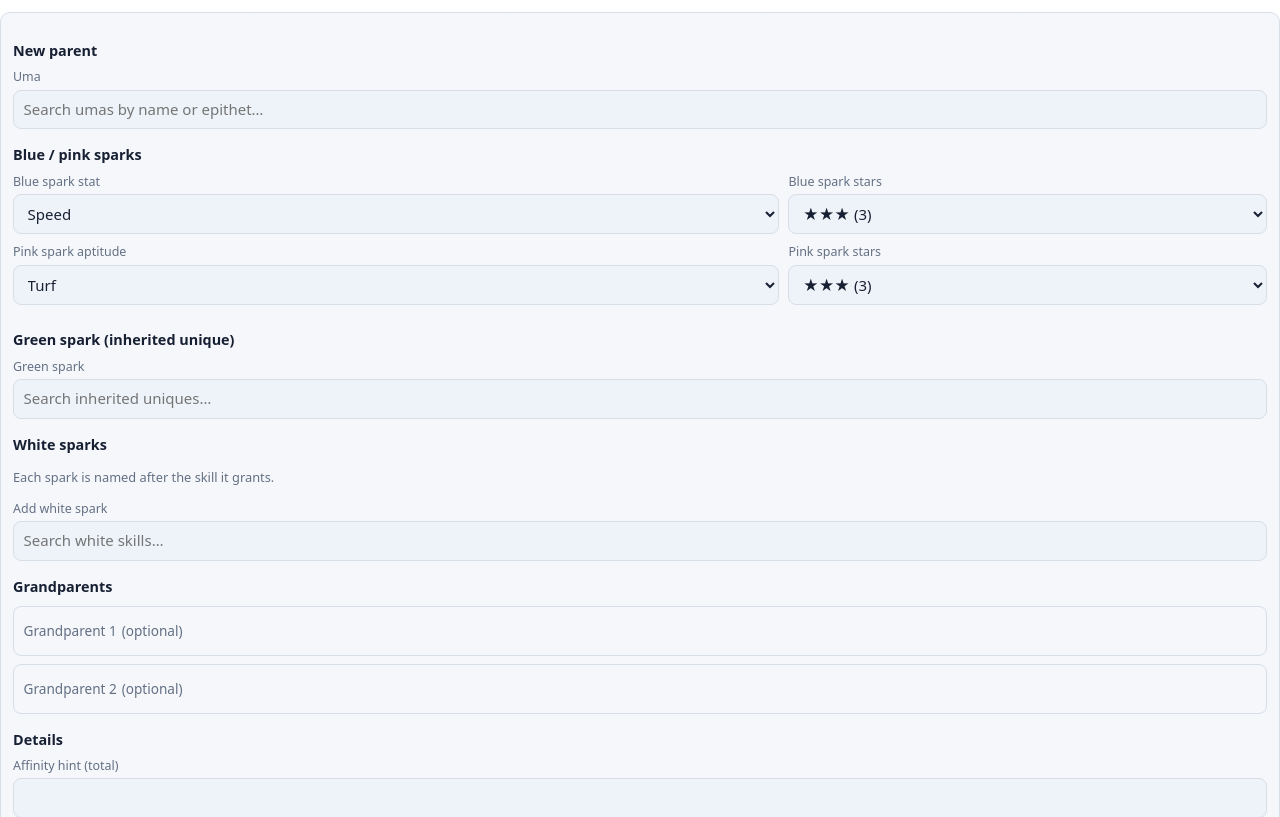
Test: ParentForm — planning horizon › a wider (cm-like) horizon reveals the upcoming JP uma / white / inherited-unique
Type "jp-only" into the search field labelled "Uma" at (640, 109), box [13, 90, 1267, 129]
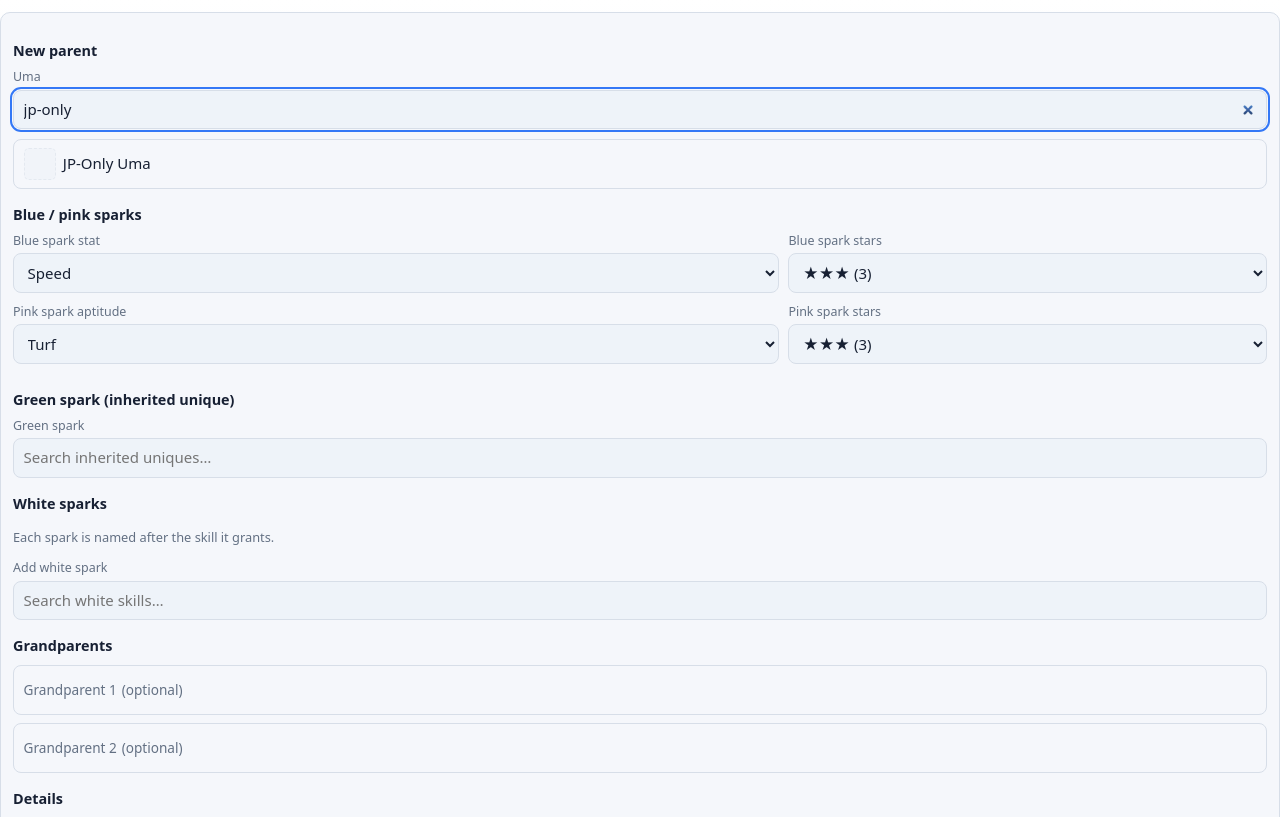
Check: the button "JP-Only Uma" is shown, box [14, 140, 1266, 188]
Type "jp-only" into the search field labelled "Add white spark" at (640, 600), box [13, 580, 1267, 620]
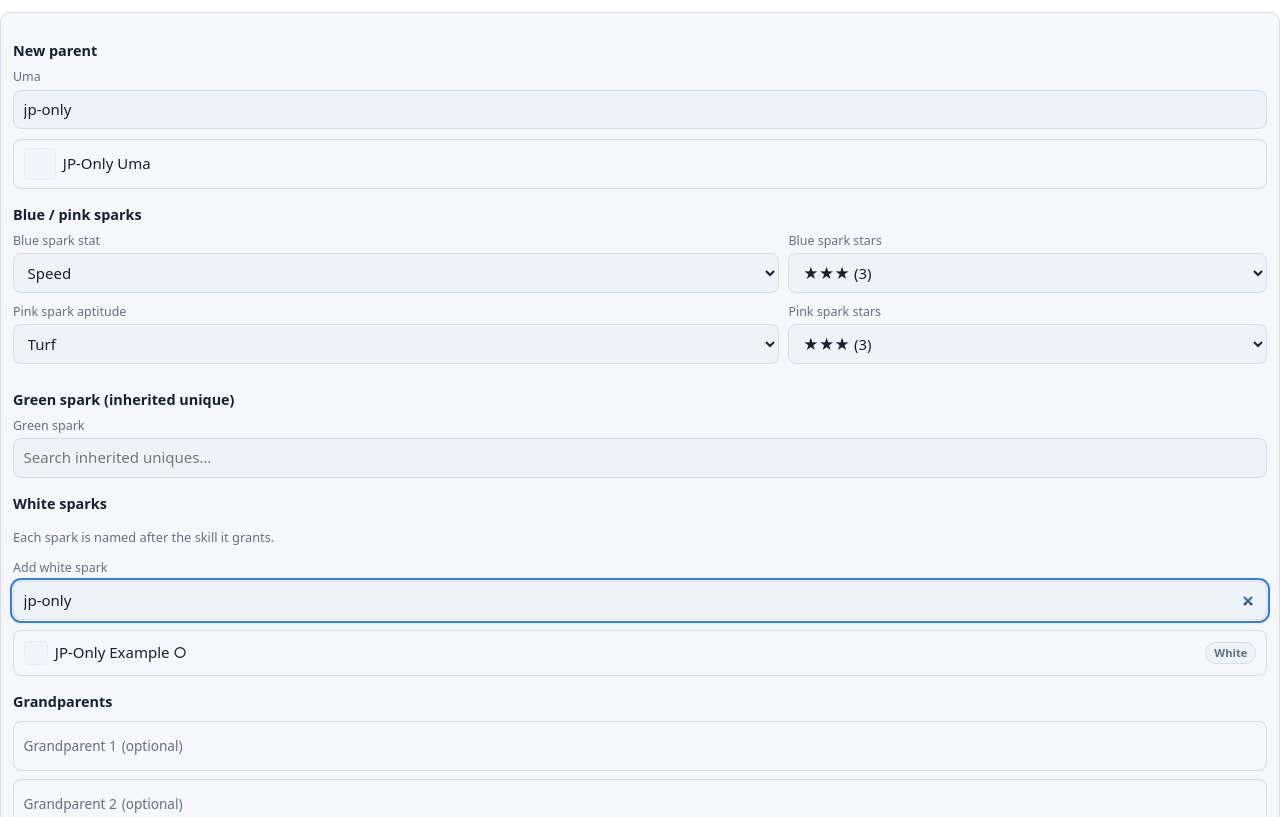
Check: the button "JP-Only Example ○ White" is shown, box [14, 631, 1266, 675]
Type "JP Inherited" into the search field labelled "Green spark" at (640, 458), box [13, 438, 1267, 478]
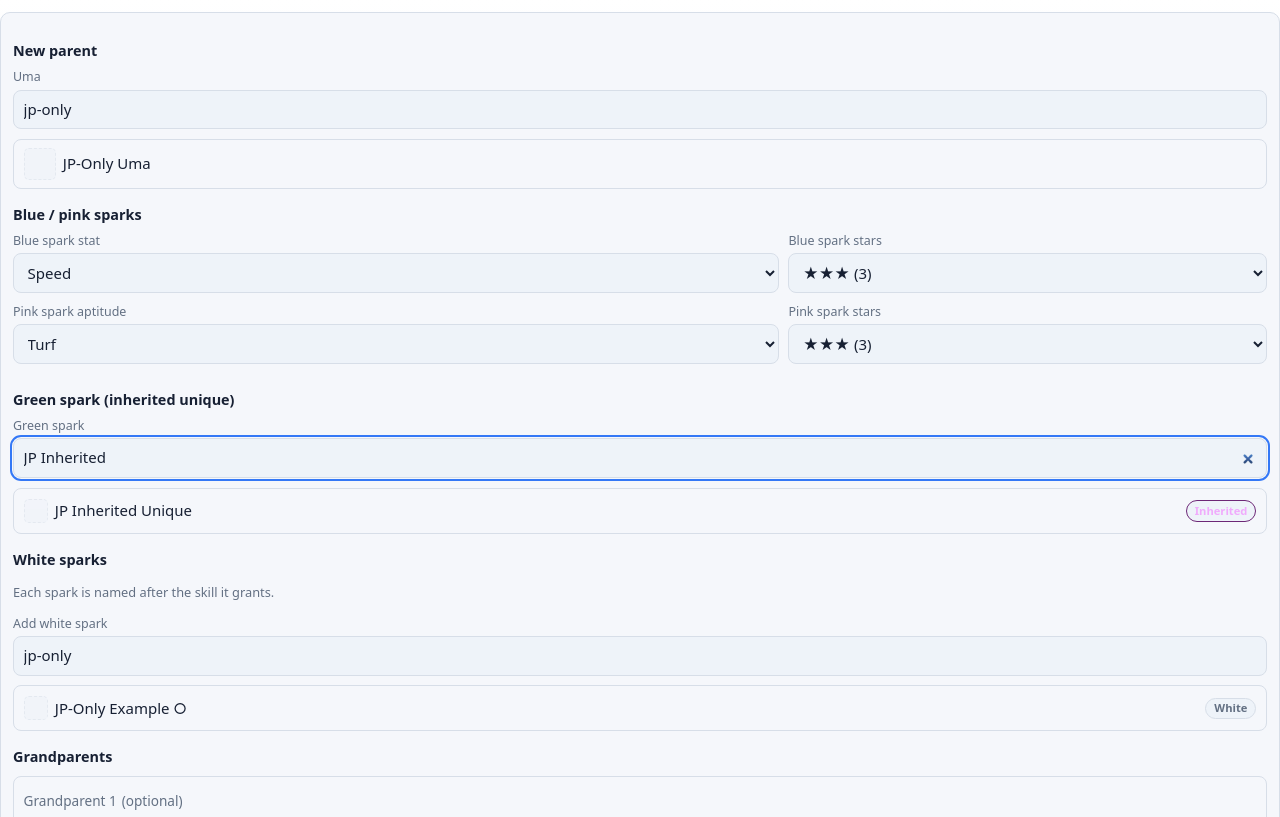
Check: the button "JP Inherited Unique Inherited" is shown, box [14, 489, 1266, 533]
